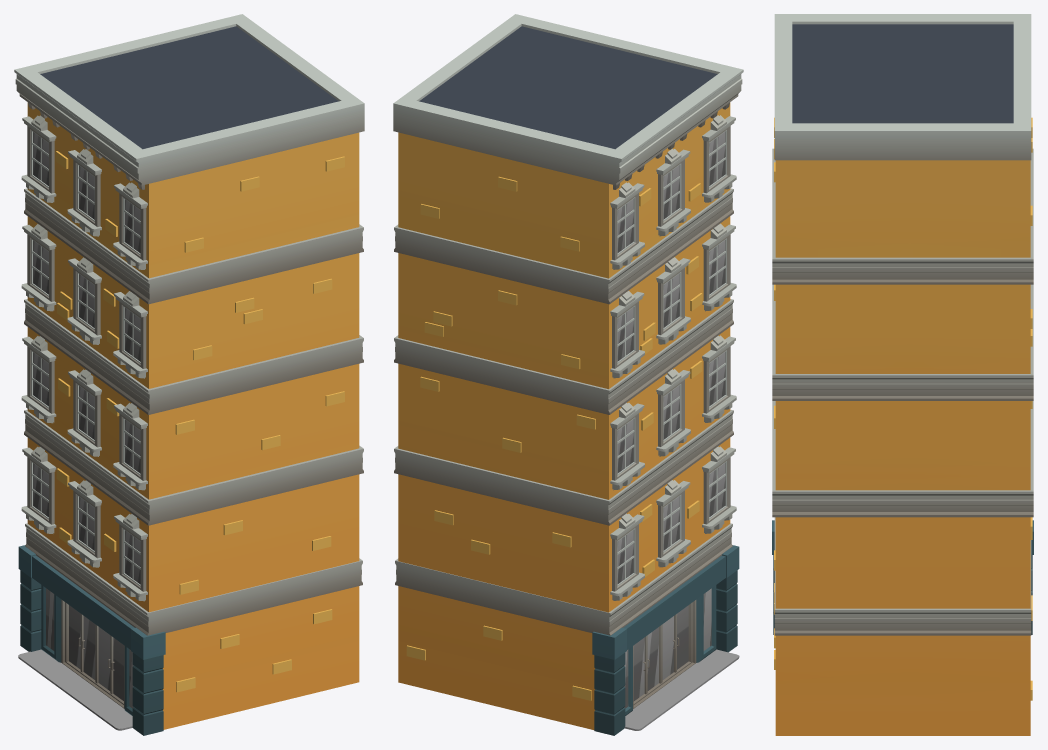
The model's file is Building_21_1_B.fbx.
3 views of the same model, side by side, from view 1: azimuth 30°, elevation 25°; view 2: azimuth 150°, elevation 25°; view 3: azimuth 270°, elevation 25° (orthographic). The views are drawn at different scales.
Parts seen in each view (by area): view 1: Building_21_1_B; view 2: Building_21_1_B; view 3: Building_21_1_B.
Part boxes in pixels (x1,y1,x2,y2): Building_21_1_B: (14,14,364,735); Building_21_1_B: (393,14,743,735); Building_21_1_B: (772,14,1033,735).
Size of the model in its own units: 779 by 1825 by 713.
